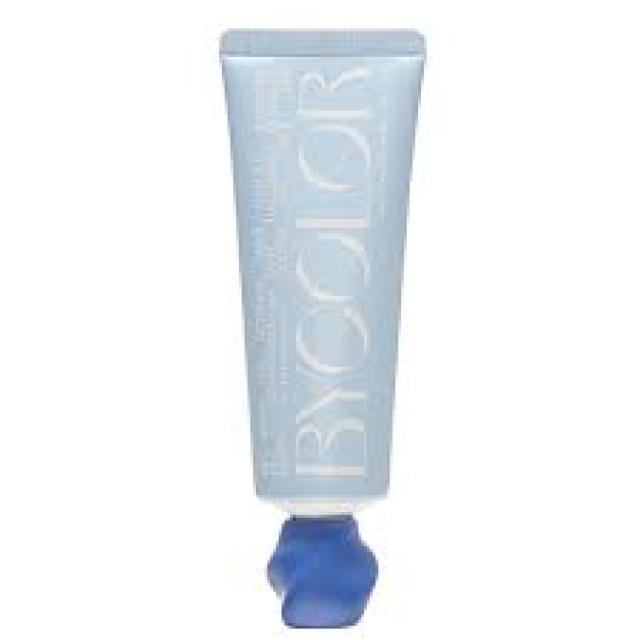toothpaste: (200, 11, 430, 534)
